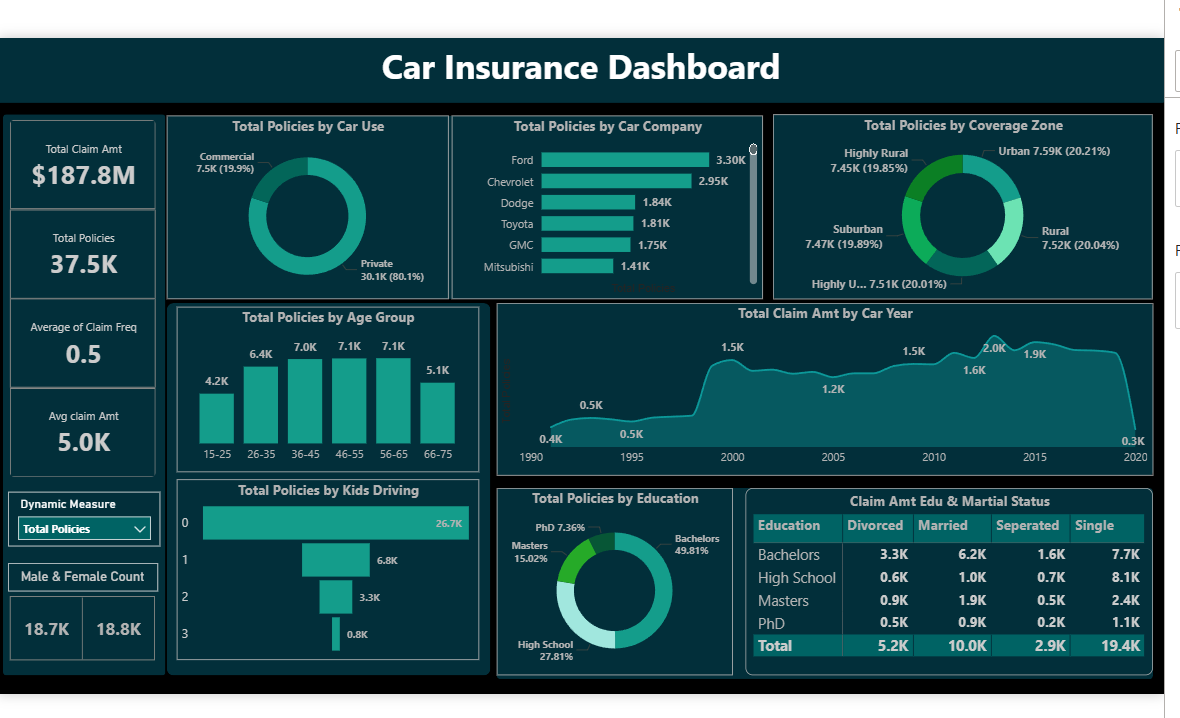

What the dashboard file says about the page in this screenshot:
{"tool":"powerbi","page":{"name":"Page 1","canvas":[1280,720],"ordinal":0},"visuals":[{"type":"shape","box":[0,0,1280.3,71.4],"z":0},{"type":"textbox","box":[0,0,1280.3,67.2],"z":1000},{"type":"shape","box":[5.5,83.7,178.4,616.1],"z":2000},{"type":"cardVisual","fields":{"Data":["insurance_data_car.Total Claim Amount","insurance_data_car.Total Policies","Avg(insurance_data_car.Claim Freq)","insurance_data_car.Avg claim Amt"]},"box":[8.2,85.1,170.2,402.1],"z":3000},{"type":"cardVisual","fields":{"Data":["insurance_data_car.male","insurance_data_car.Female"]},"box":[8.2,607.9,170.2,81],"z":4000},{"type":"slicer","fields":{"Values":["Dynamic Measure.Dynamic Measure"]},"box":[11,498.1,167.4,60.4],"z":5000},{"type":"shape","box":[185.2,85.1,654.5,201.7],"z":6000},{"type":"donutChart","fields":{"Y":["insurance_data_car.Total Policies"],"Category":["insurance_data_car.Car Use"]},"box":[185.2,85.2,309.5,201.6],"z":6000,"group":"g2"},{"type":"shape","box":[850.8,83.7,417.2,203.1],"z":7000},{"type":"barChart","fields":{"Y":["insurance_data_car.Total Policies"],"Category":["insurance_data_car.Car Make"]},"box":[498.1,85.1,341.6,201.5],"z":7000,"group":"g2"},{"type":"donutChart","fields":{"Y":["insurance_data_car.Total Policies"],"Category":["insurance_data_car.Coverage Zone"]},"box":[850.8,83.7,417.2,203.1],"z":8000},{"type":"shape","box":[547.5,494,720.4,209.9],"z":9000},{"type":"shape","box":[547.5,290.9,720.4,189.4],"z":10000},{"type":"shape","box":[185.2,290.9,355.4,408.9],"z":11000,"group":"g1"},{"type":"areaChart","title":"Total Claim Amt by Car Year","fields":{"Y":["insurance_data_car.Total Policies"],"Category":["insurance_data_car.Car Year"]},"box":[547.5,290.9,720.4,189.4],"z":11000},{"type":"clusteredColumnChart","fields":{"Y":["insurance_data_car.Total Policies"],"Category":["insurance_data_car.Age Group"]},"box":[195.8,295.1,332.1,181.4],"z":12000,"group":"g1"},{"type":"pieChart","fields":{"Y":["insurance_data_car.Total Policies"],"Category":["insurance_data_car.Education"]},"box":[547.5,494,259.3,205.8],"z":12000},{"type":"funnel","fields":{"Y":["insurance_data_car.Total Policies"],"Category":["insurance_data_car.Kids Driving"]},"box":[196.2,485.1,332.1,198.6],"z":13000,"group":"g1"},{"type":"pivotTable","title":"Claim Amt Edu & Martial Status","fields":{"Values":["insurance_data_car.Total Policies"],"Rows":["insurance_data_car.Education"],"Columns":["insurance_data_car.Marital Status"]},"box":[820.6,494,447.3,205.8],"z":13000},{"type":"group","id":"g1","title":"Group 1","box":[185.2,290.9,355.4,408.9],"z":14000},{"type":"group","id":"g2","title":"Group 2","box":[185.2,85.1,654.5,201.7],"z":15000},{"type":"card","fields":{"Values":["insurance_data_car.Male And Female Count"]},"box":[11,576.3,164.7,31.6],"z":16000}]}

Visuals, with their boxes on the page's 1280x720 design canvas (x1, y1, x2, y2). These are canvas units, not pixel positions in the 1180x718 screenshot, which may show the page scaled, cropped or inside an application window:
shape: detection(0, 0, 1280, 71)
textbox: detection(0, 0, 1280, 67)
shape: detection(6, 84, 184, 700)
cardVisual - insurance_data_car.Total Claim Amount x insurance_data_car.Total Policies: detection(8, 85, 178, 487)
cardVisual - insurance_data_car.male x insurance_data_car.Female: detection(8, 608, 178, 689)
slicer - Dynamic Measure.Dynamic Measure: detection(11, 498, 178, 558)
shape: detection(185, 85, 840, 287)
donutChart - insurance_data_car.Total Policies x insurance_data_car.Car Use: detection(185, 85, 495, 287)
shape: detection(851, 84, 1268, 287)
barChart - insurance_data_car.Total Policies x insurance_data_car.Car Make: detection(498, 85, 840, 287)
donutChart - insurance_data_car.Total Policies x insurance_data_car.Coverage Zone: detection(851, 84, 1268, 287)
shape: detection(548, 494, 1268, 704)
shape: detection(548, 291, 1268, 480)
shape: detection(185, 291, 541, 700)
"Total Claim Amt by Car Year" areaChart: detection(548, 291, 1268, 480)
clusteredColumnChart - insurance_data_car.Total Policies x insurance_data_car.Age Group: detection(196, 295, 528, 476)
pieChart - insurance_data_car.Total Policies x insurance_data_car.Education: detection(548, 494, 807, 700)
funnel - insurance_data_car.Total Policies x insurance_data_car.Kids Driving: detection(196, 485, 528, 684)
"Claim Amt Edu & Martial Status" pivotTable: detection(821, 494, 1268, 700)
"Group 1" group: detection(185, 291, 541, 700)
"Group 2" group: detection(185, 85, 840, 287)
card - insurance_data_car.Male And Female Count: detection(11, 576, 176, 608)
